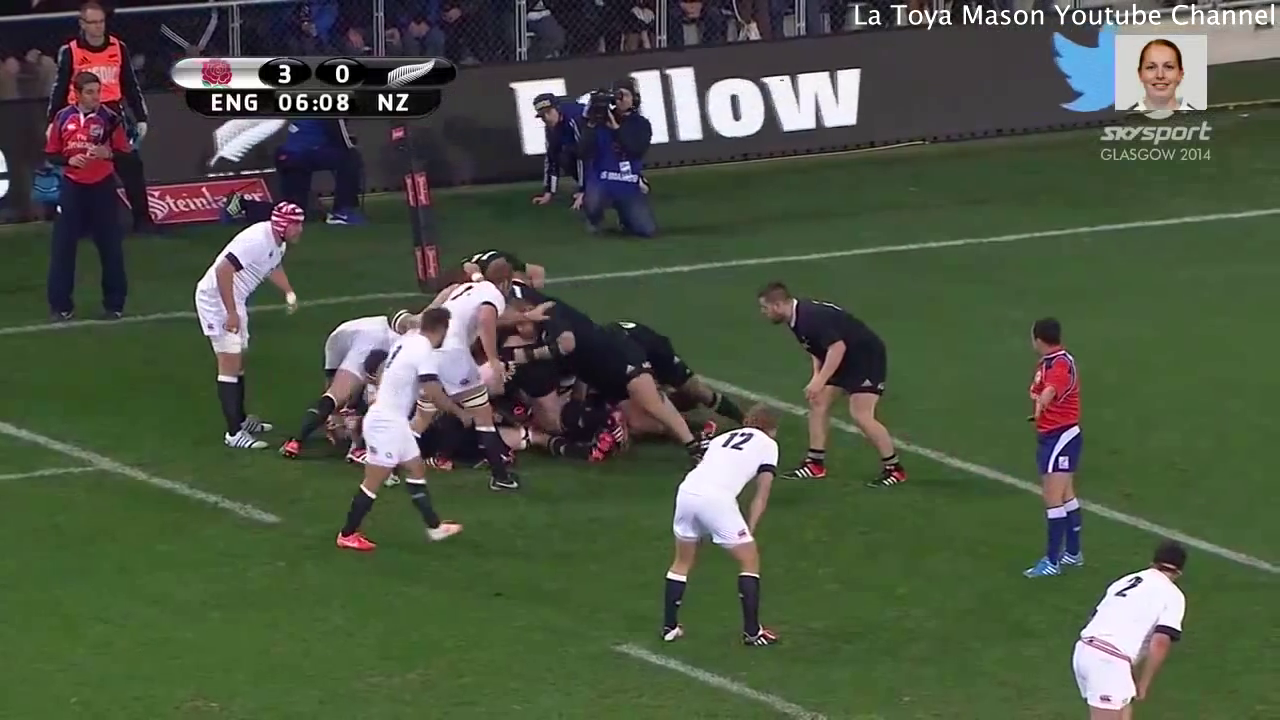player: (329, 293, 490, 564), (751, 267, 936, 500), (501, 289, 727, 472), (646, 393, 792, 660), (185, 192, 320, 462), (1058, 530, 1209, 720), (1012, 306, 1094, 581)
ruck: (285, 227, 723, 483)
